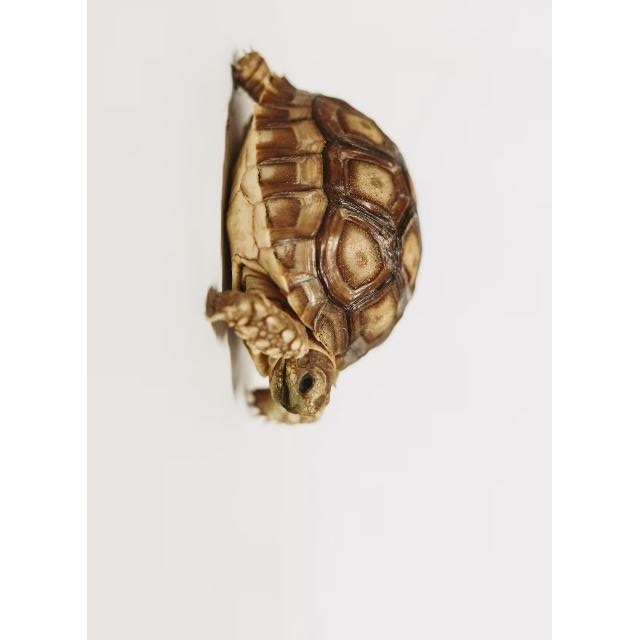turtle: (205, 48, 426, 428)
